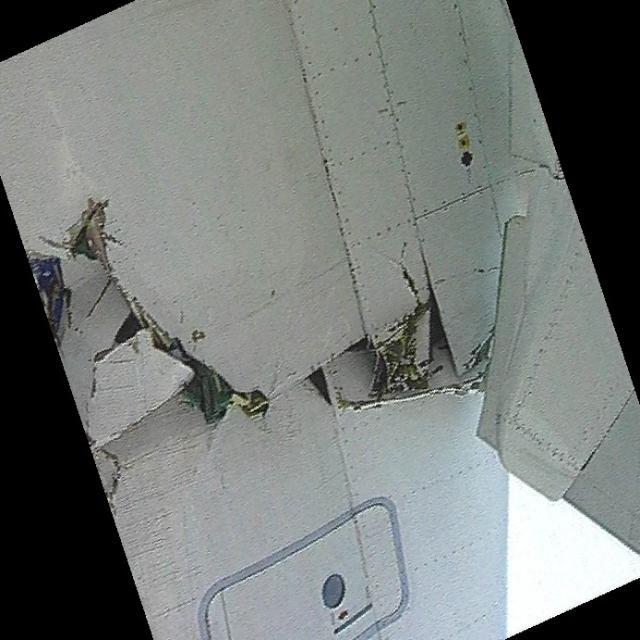crack: (39, 196, 531, 517)
